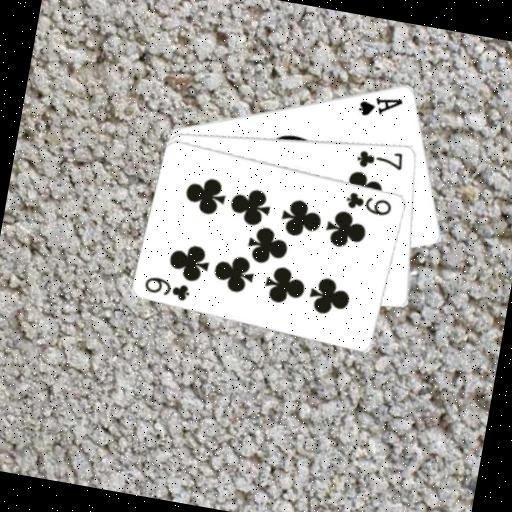7C: (352, 141, 406, 175)
9C: (140, 271, 194, 303), (341, 187, 395, 218)
AS: (354, 88, 405, 123)
